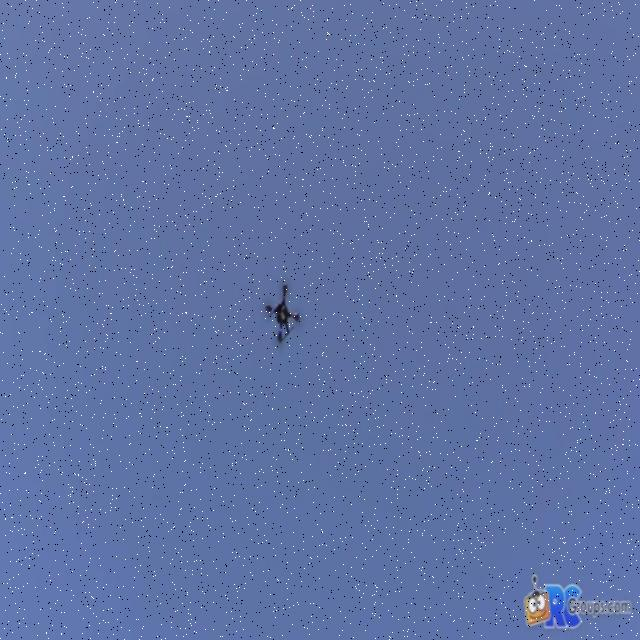UAV: (263, 278, 303, 348)
